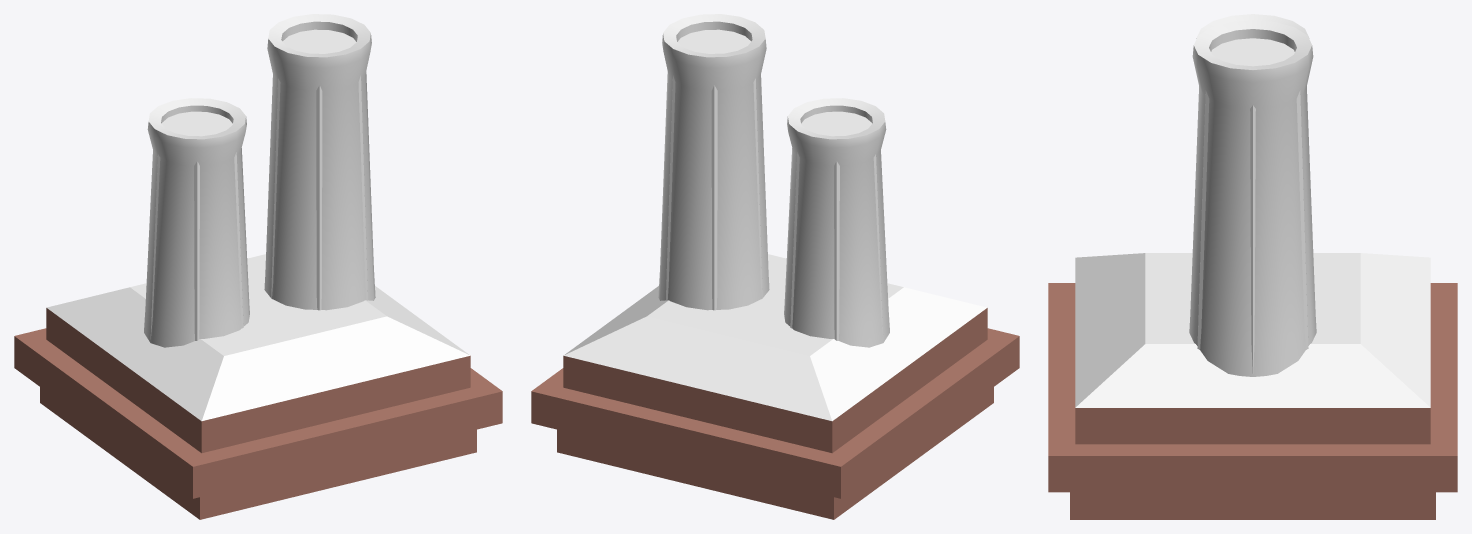
File: chimney_caps.glb
3 views of the same model, side by side, from view 1: azimuth 30°, elevation 25°; view 2: azimuth 150°, elevation 25°; view 3: azimuth 270°, elevation 25° (orthographic). The views are drawn at different scales.
Parts seen in each view (by area): view 1: cap_near_pot, cap_far_brick, cap_far_pot, cap_near_brick; view 2: cap_near_pot, cap_far_pot, cap_far_brick, cap_near_brick; view 3: cap_far_brick, cap_far_pot, cap_near_pot, cap_near_brick.
Boxes of the visible parts, <box> form: cap_near_pot: <box>144,14,375,347</box>; cap_far_brick: <box>14,308,502,519</box>; cap_far_pot: <box>47,29,469,421</box>; cap_near_brick: <box>16,314,500,515</box>; cap_near_pot: <box>658,14,889,347</box>; cap_far_pot: <box>564,29,986,421</box>; cap_far_brick: <box>531,308,1019,519</box>; cap_near_brick: <box>533,321,1017,515</box>; cap_far_brick: <box>1048,283,1457,519</box>; cap_far_pot: <box>1075,38,1430,407</box>; cap_near_pot: <box>1189,14,1316,376</box>; cap_near_brick: <box>1051,284,1454,510</box>.
Bounding box in the file's own units: 0.76 × 0.884 × 0.76.
